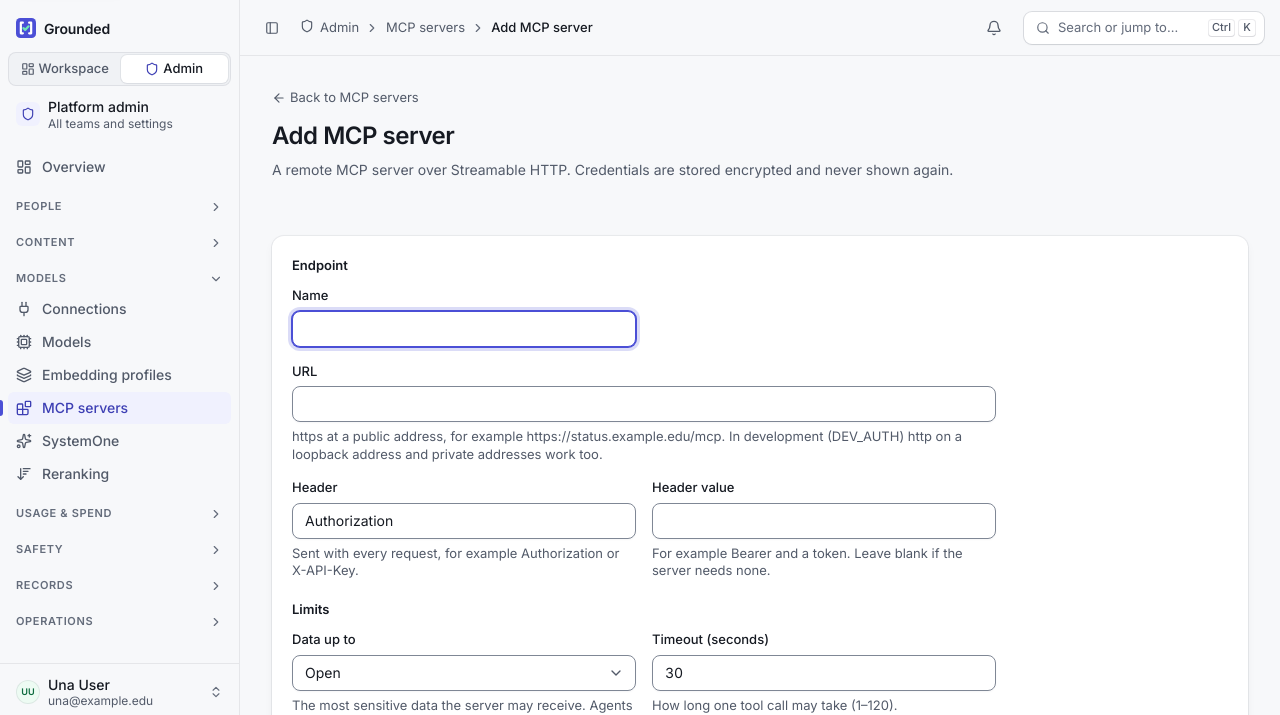
it: Admin → MCP servers: guarded changes › says when another server has the URL, and reads a new server's tools at once (AD-37)
Type "Status again" into the field labelled "Name" at (464, 329), box [292, 311, 636, 347]
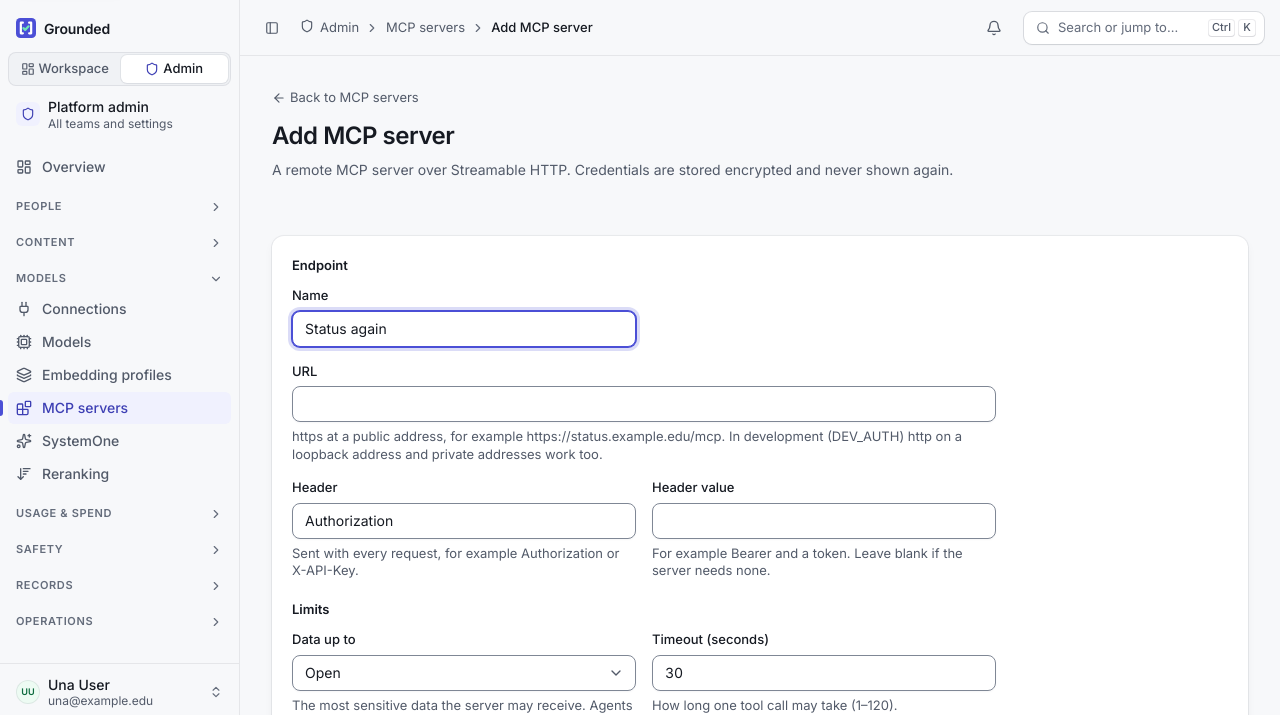
Type "https://STATUS.example.edu/mcp/" into the field labelled "URL" at (644, 404), box [292, 386, 996, 422]
(page scrolled)
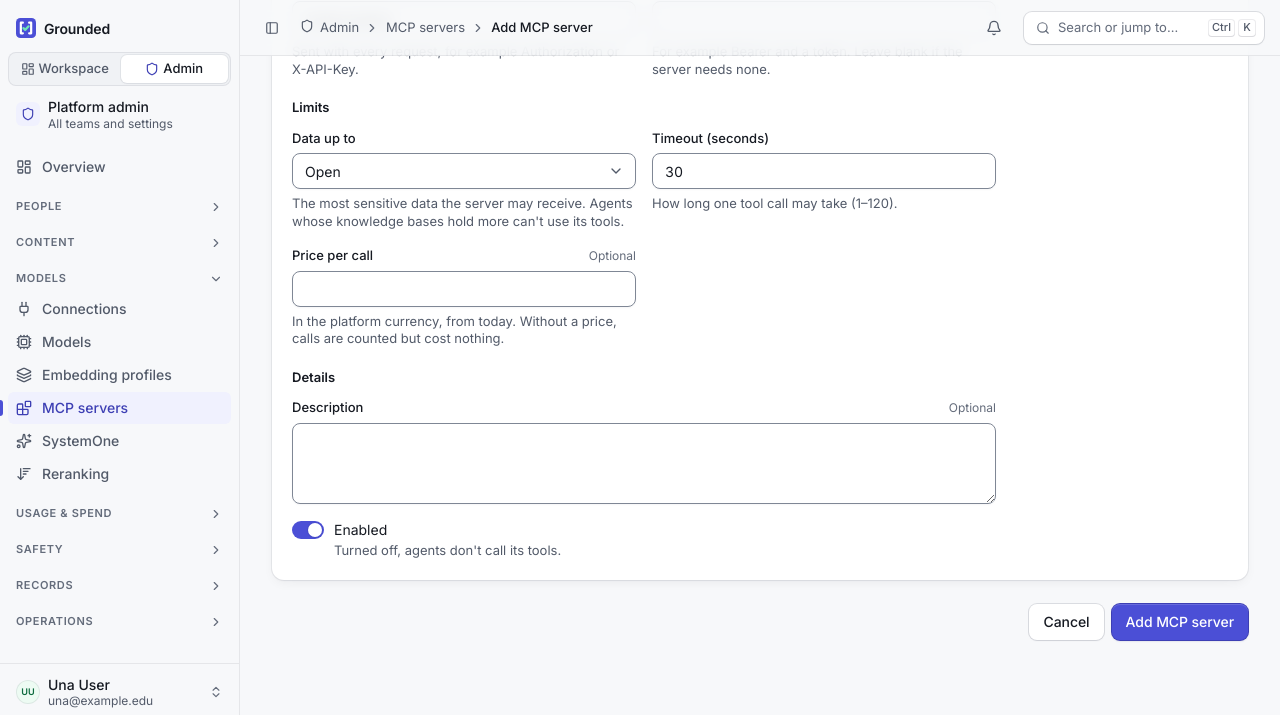
Click the button "Add MCP server" at (1180, 622), box [1112, 604, 1248, 640]
(page scrolled)
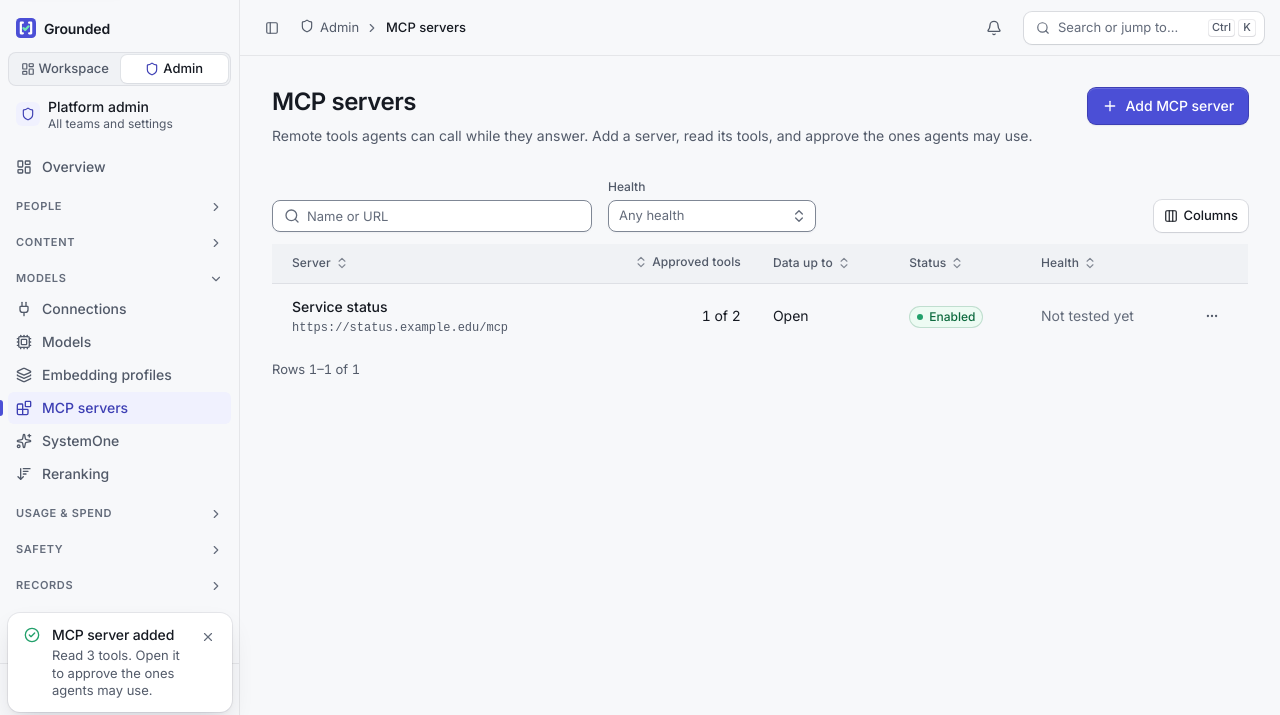
Check: the text "Read 3 tools. Open it to approve the ones agents may use." is shown, box [52, 647, 184, 700]
